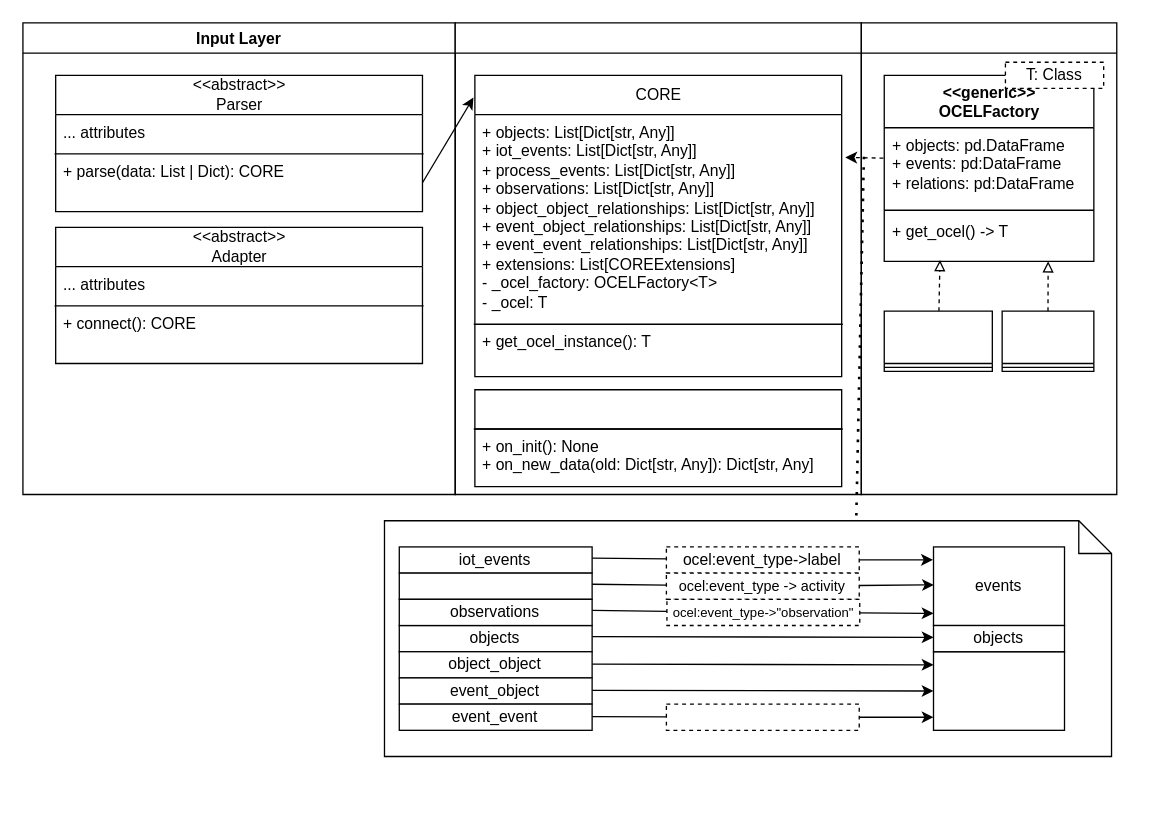
Some shapes in this 1149 by 819 pixel diagram are drawn without their labels. Each missing label, with the box of its shape:
<<abstract>> COREExtensions: (474, 388, 842, 487)
Data Transformation Layer: (454, 22, 861, 495)
Linking <<Object>>: (665, 703, 859, 730)
OCEL Representation Layer: (860, 22, 1117, 495)
ocpa: (1001, 310, 1094, 371)
pm4py.OCEL: (883, 310, 992, 371)
process_events: (398, 572, 592, 599)
relations: (932, 650, 1065, 730)
